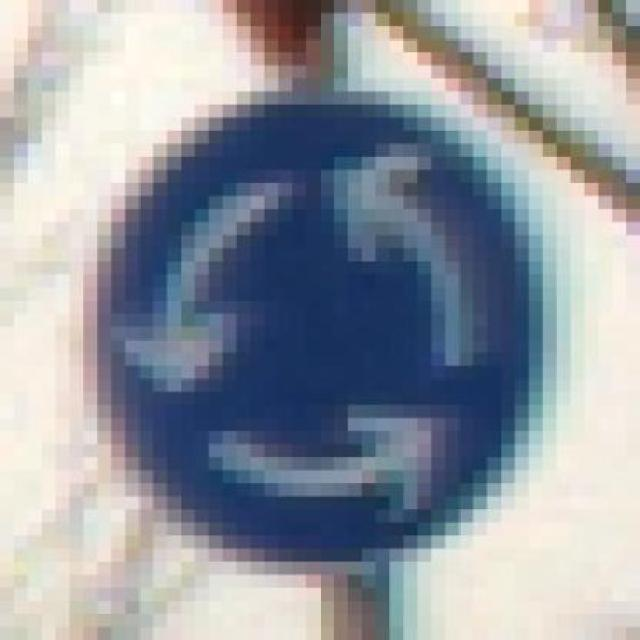Round-About: (56, 65, 570, 588)
